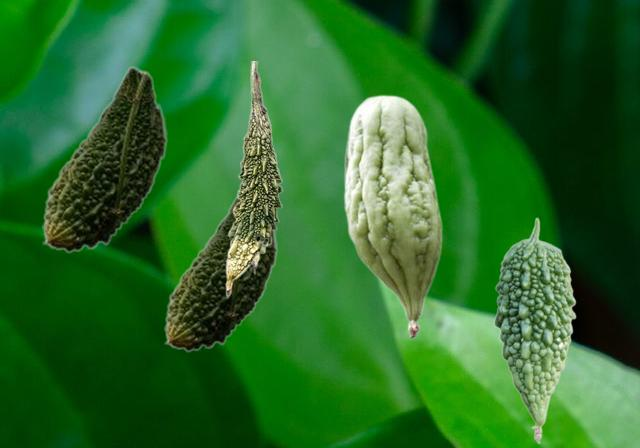ampalaya: (343, 94, 442, 338), (42, 66, 167, 252), (164, 187, 277, 351), (493, 217, 575, 443), (225, 61, 282, 296)
